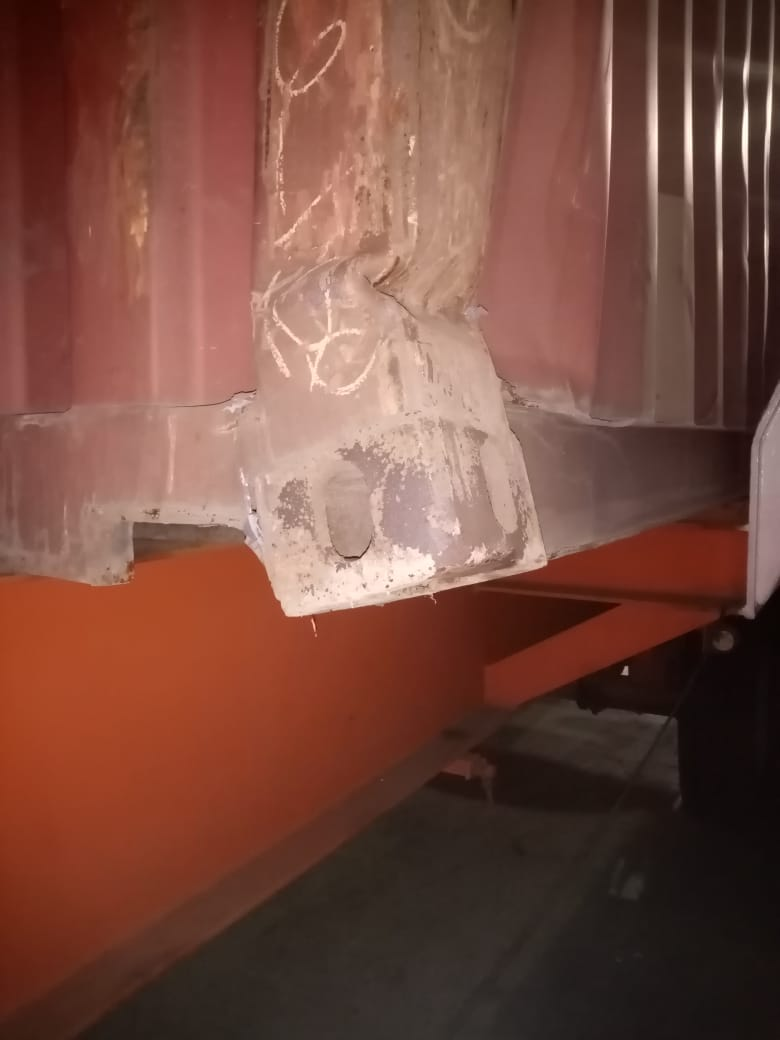moderate: (238, 120, 593, 541)
